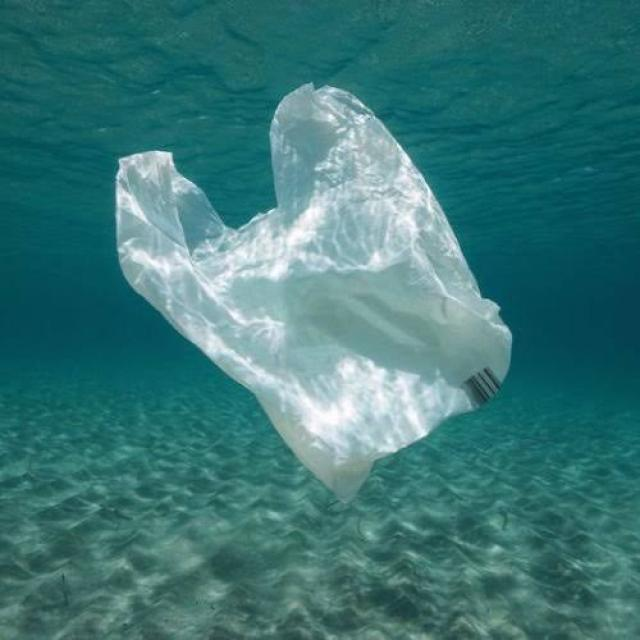plastic bag: (90, 71, 520, 537)
